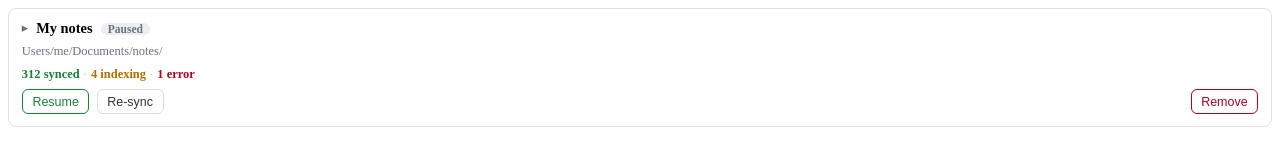
Test: Re-sync surfaces E_FOLDER_PAUSED inline (does not throw)
Click the button with test id "folder-resync".
click(130, 102)  # box [97,89,164,114]
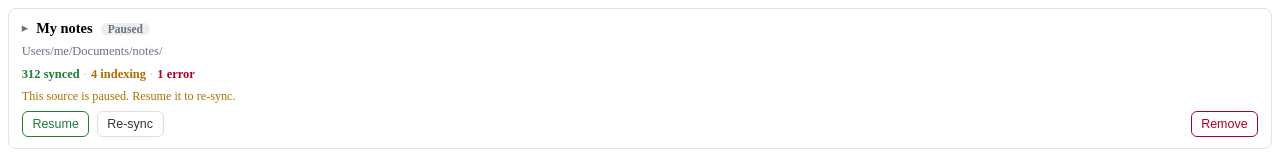
Expected: the message with test id "folder-resync-notice" shows "paused", [22,89,236,103]
